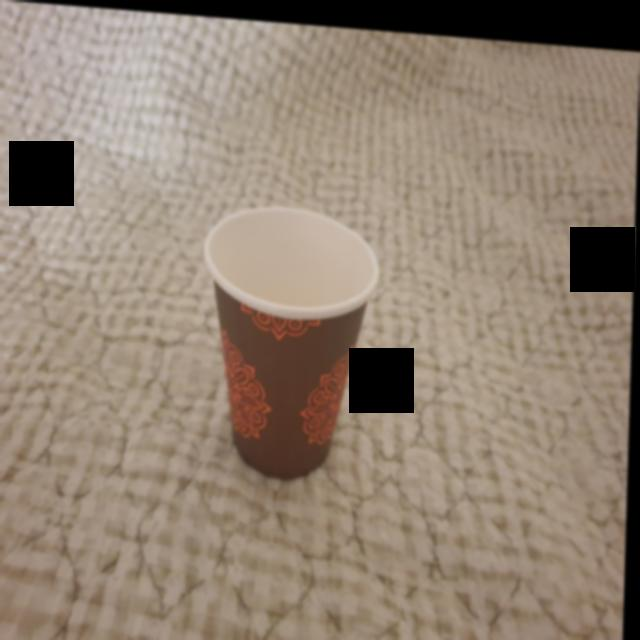cups: (198, 188, 389, 484)
